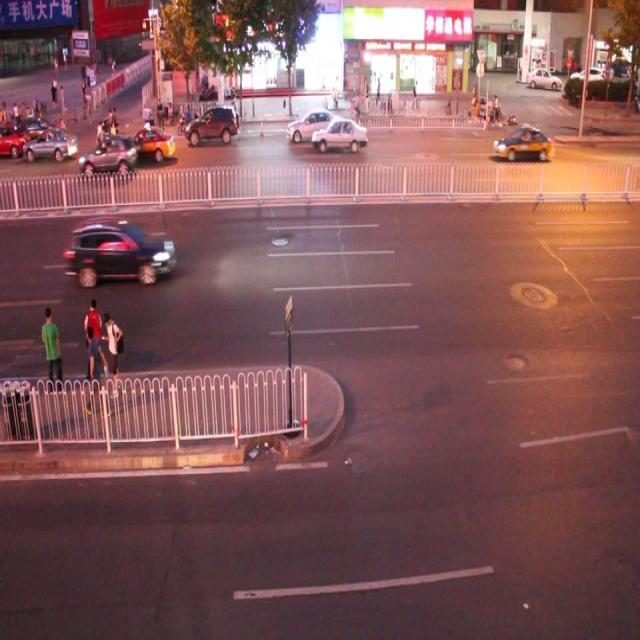car: (69, 216, 174, 283), (78, 134, 138, 175), (492, 124, 552, 163), (184, 104, 238, 144), (312, 115, 367, 154), (121, 128, 176, 162), (288, 109, 342, 143), (23, 129, 78, 161), (15, 112, 58, 144), (1, 121, 30, 156)
